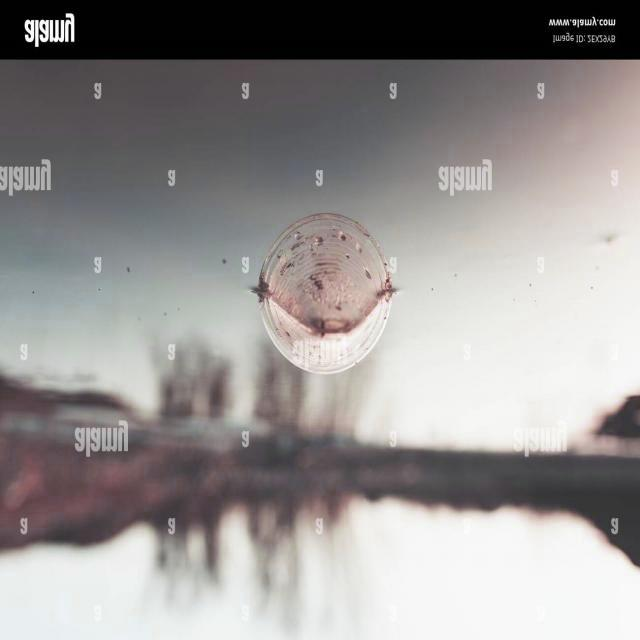Plastic: (258, 208, 396, 377)
